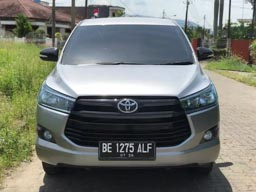plat: (100, 141, 155, 153)
